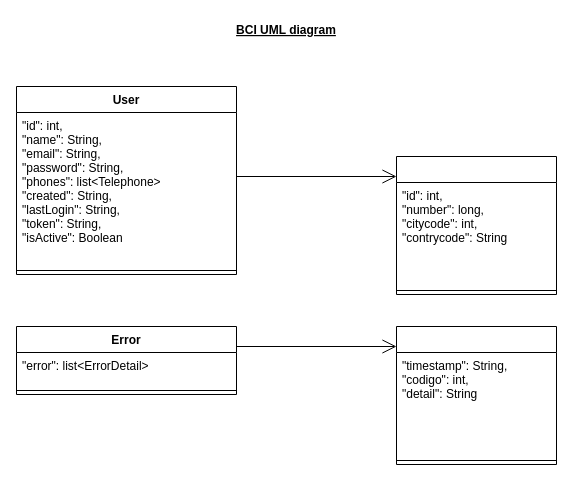
Some shapes in this 573 by 481 pixel diagram are drawn without their labels. The box of each missing label's shape, as (x1, y1, x2, y2) in pixels:
ErrorDetail: (396, 326, 556, 464)
Telephone: (396, 156, 556, 294)
